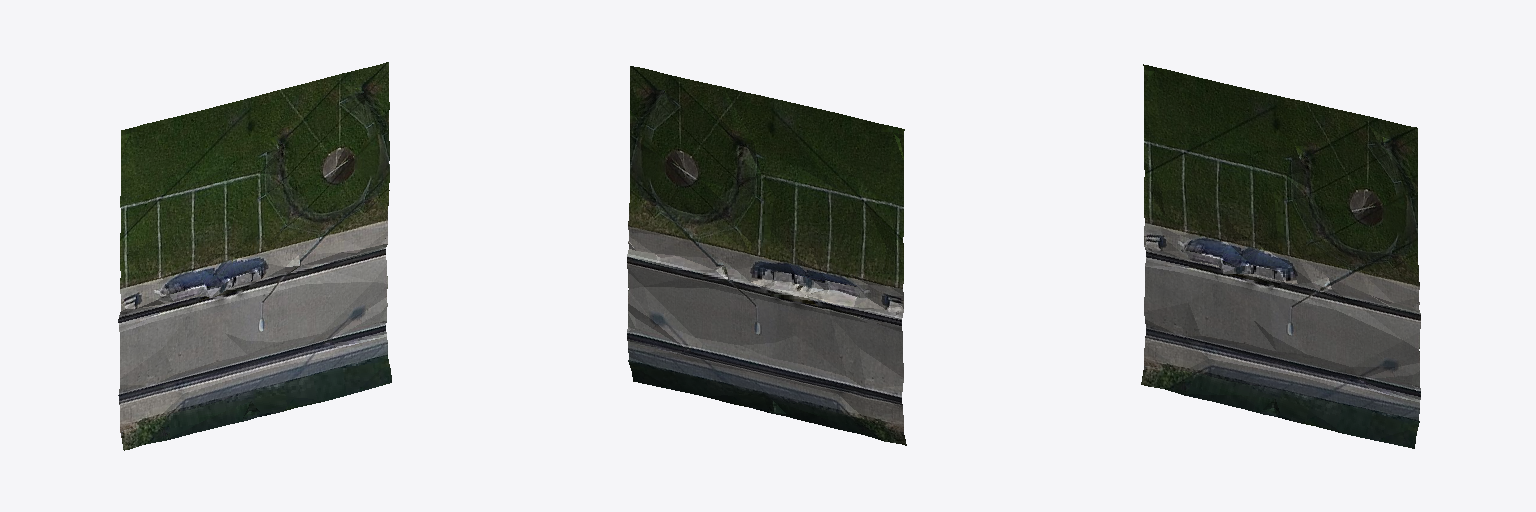
3 renders of one model, left to right at view 1: azimuth 30°, elevation 25°; view 2: azimuth 150°, elevation 25°; view 3: azimuth 330°, elevation 25°, orthographic.
Visible parts, largest first — view 1: obj_0; view 2: obj_0; view 3: obj_0.
Boxes of the visible parts, x1=… form: obj_0: x1=118, y1=62, x2=391, y2=450; obj_0: x1=627, y1=66, x2=906, y2=445; obj_0: x1=1141, y1=64, x2=1420, y2=448.
Bounding box in the file's own units: 20.08 × 22.53 × 1.5.
1 materials, 1 textured.